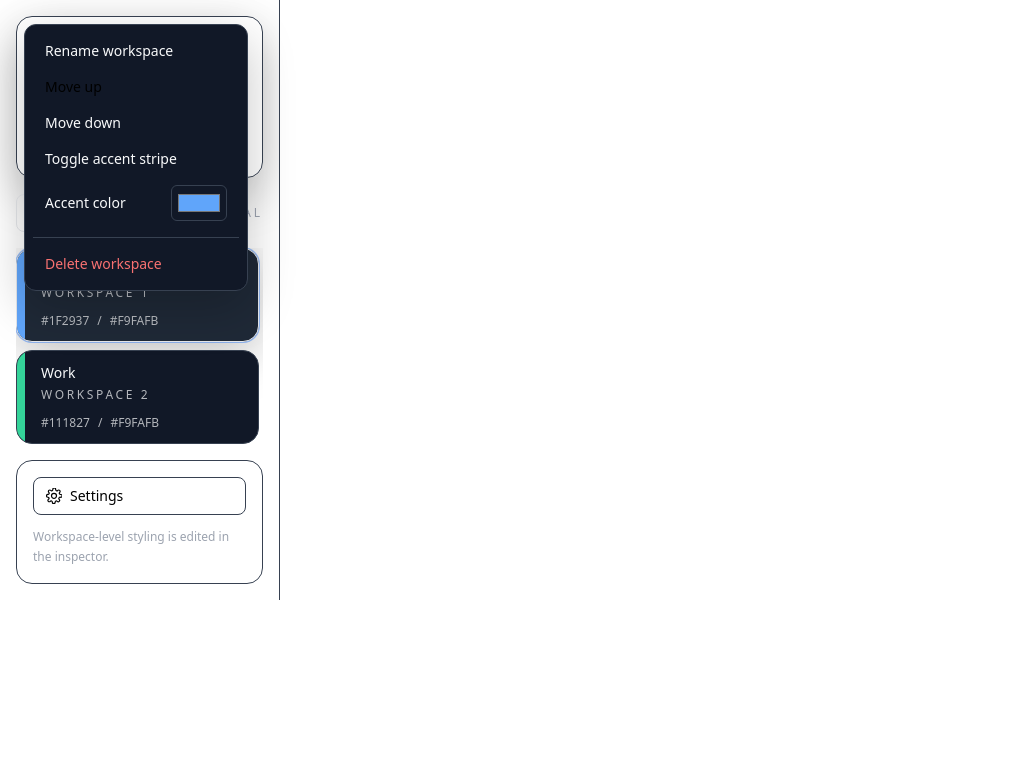
context menu dismissal › workspace menu uses a backdrop so outside dismissal does not change selection
Expected: the element that starts with "Todo" is shown, [0,0,280,600]
Press the mouse on the element with test id "workspace-menu-backdrop": (512, 384) [0,0,1023,767]
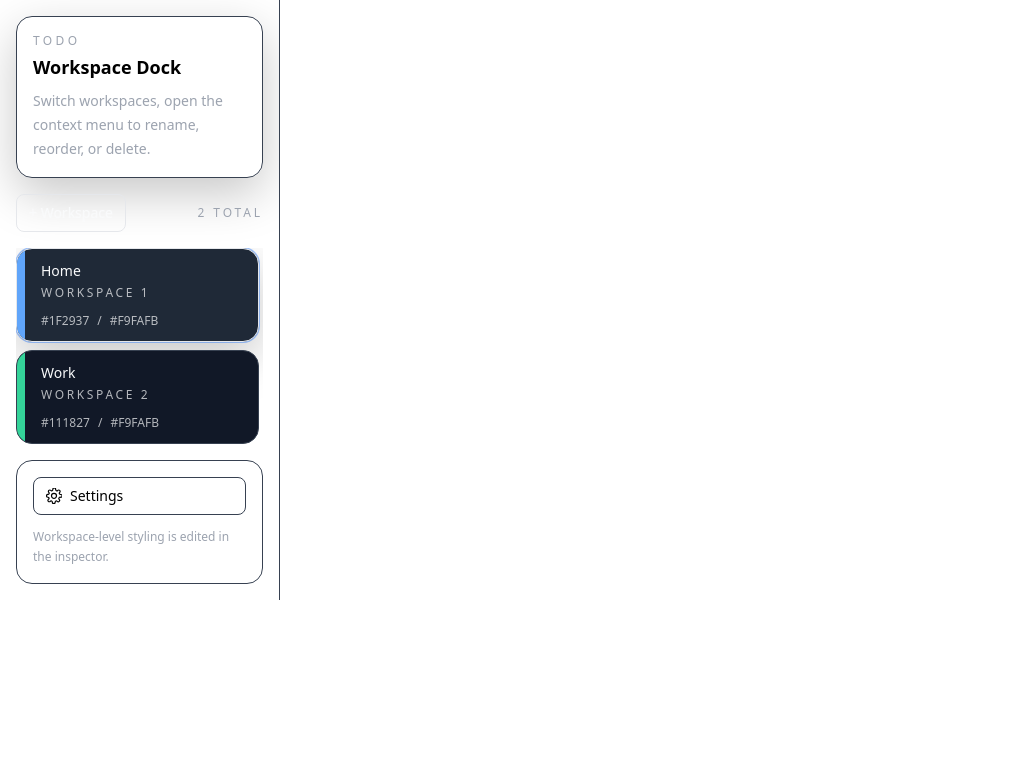
Result: the element with test id "workspace-menu-backdrop" is gone
